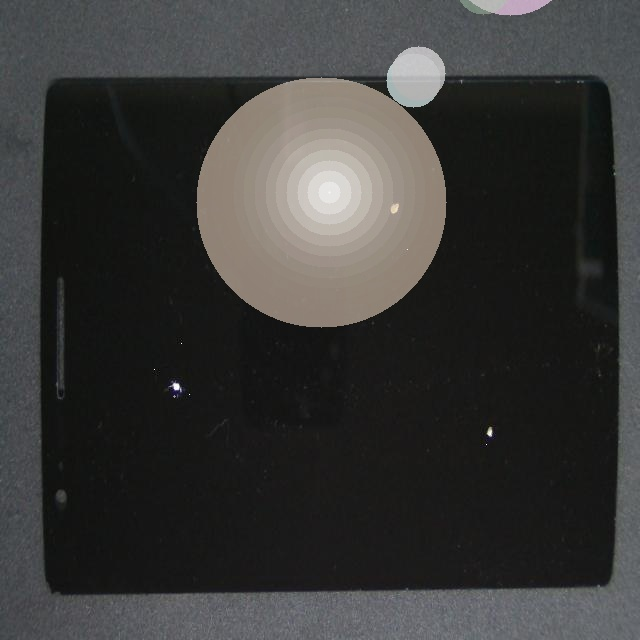stain: (245, 199, 640, 588), (187, 126, 564, 378), (36, 170, 233, 604)
